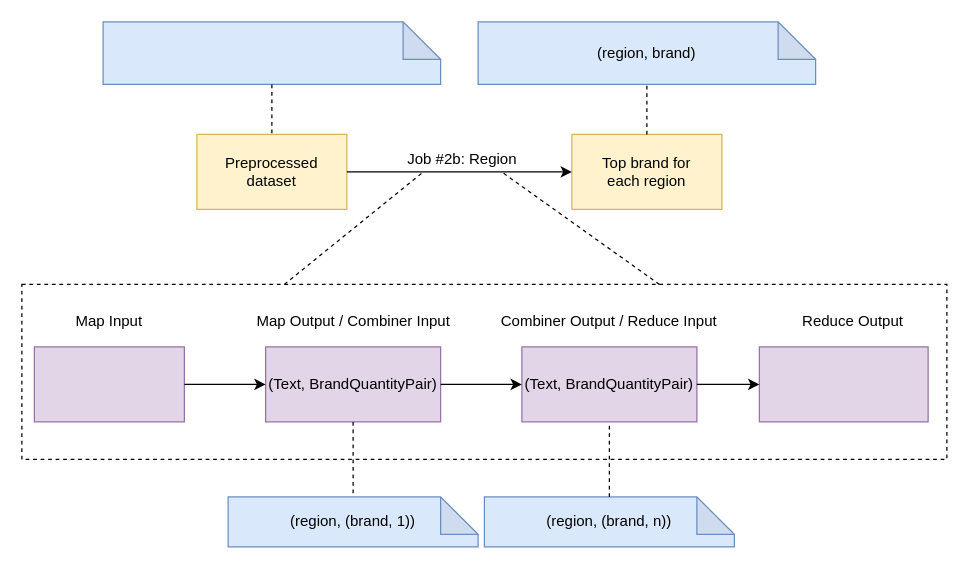
Some shapes in this 969 by 569 pixel diagram are drawn without their labels. The shapes that lost their labels are listed below. From the top down, each one's centre as x and y in pixels, then its label:
At point (271, 52): "(region, price, brand, fuel, odometer)".
At point (108, 384): "(Object, Text)".
At point (843, 384): "(Text, Text)".
